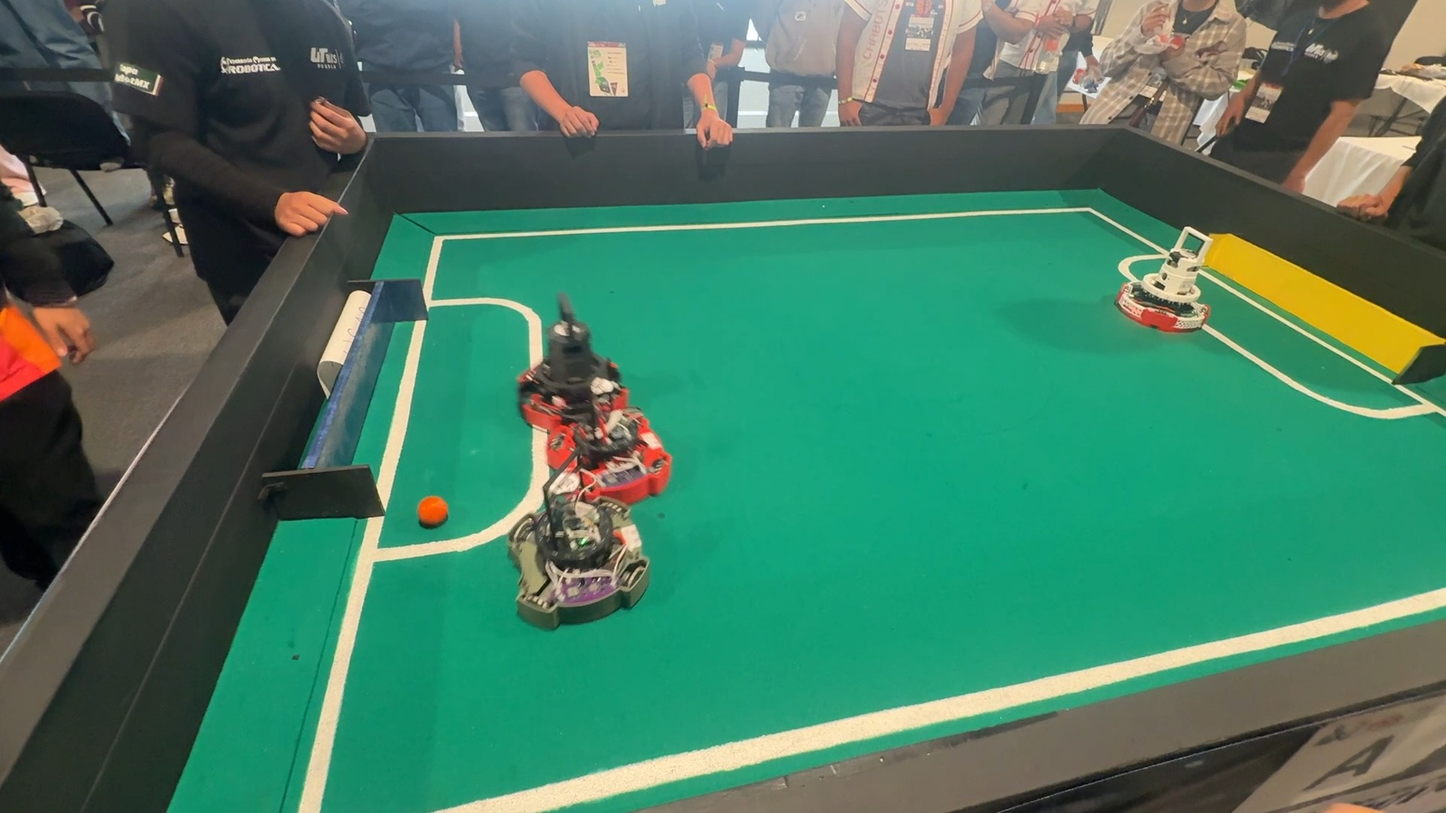Robot: (500, 469, 667, 645), (511, 304, 647, 432), (1103, 219, 1236, 345), (553, 374, 674, 501)
pelota: (411, 493, 452, 532)
